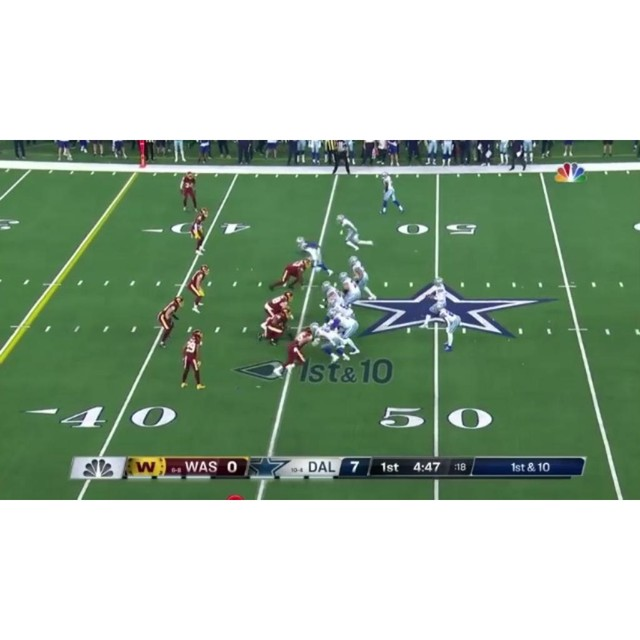american-football-player: (272, 325, 317, 378), (311, 321, 350, 365), (326, 308, 361, 357), (267, 258, 313, 292), (179, 330, 205, 389), (296, 236, 334, 276), (336, 214, 374, 251), (257, 306, 292, 346), (157, 297, 184, 348), (422, 278, 448, 330), (348, 255, 377, 301), (379, 171, 405, 214), (436, 307, 461, 351), (188, 264, 210, 313), (262, 290, 293, 320), (190, 207, 209, 254), (338, 272, 362, 306), (320, 281, 347, 309), (180, 170, 198, 211)
